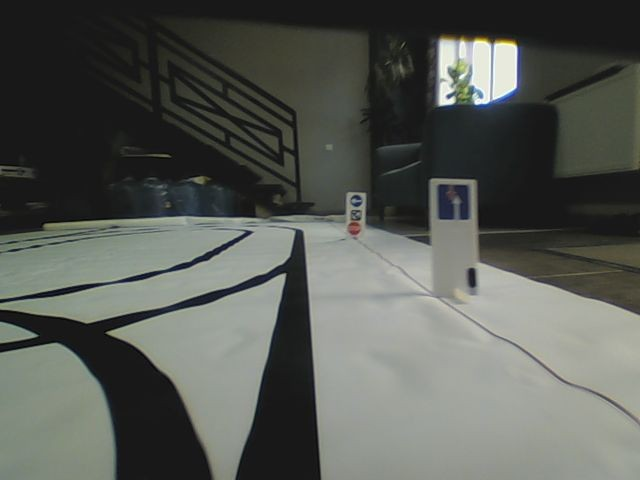Stop: (347, 224, 359, 236)
priority_movement: (437, 182, 470, 222)
